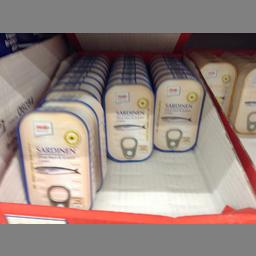fish: (16, 106, 96, 208), (103, 82, 152, 160), (154, 78, 204, 152), (200, 60, 237, 118)
